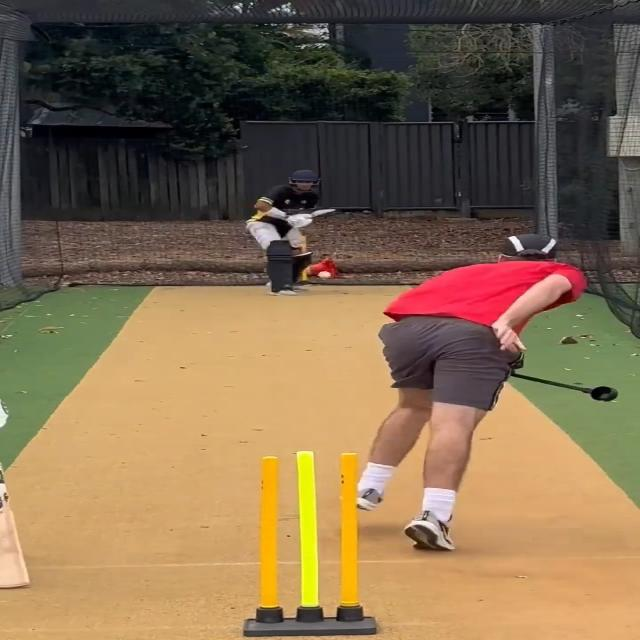ball: (316, 270, 332, 280)
stump: (239, 449, 381, 640)
